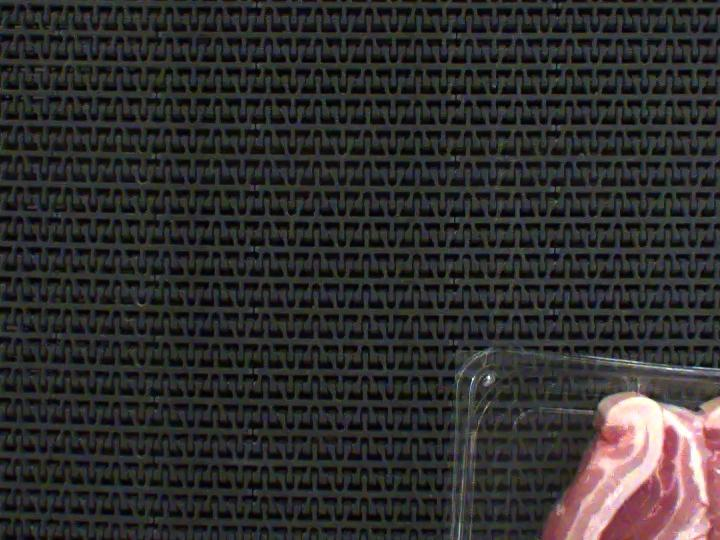packaging-error: (606, 371, 654, 401)
